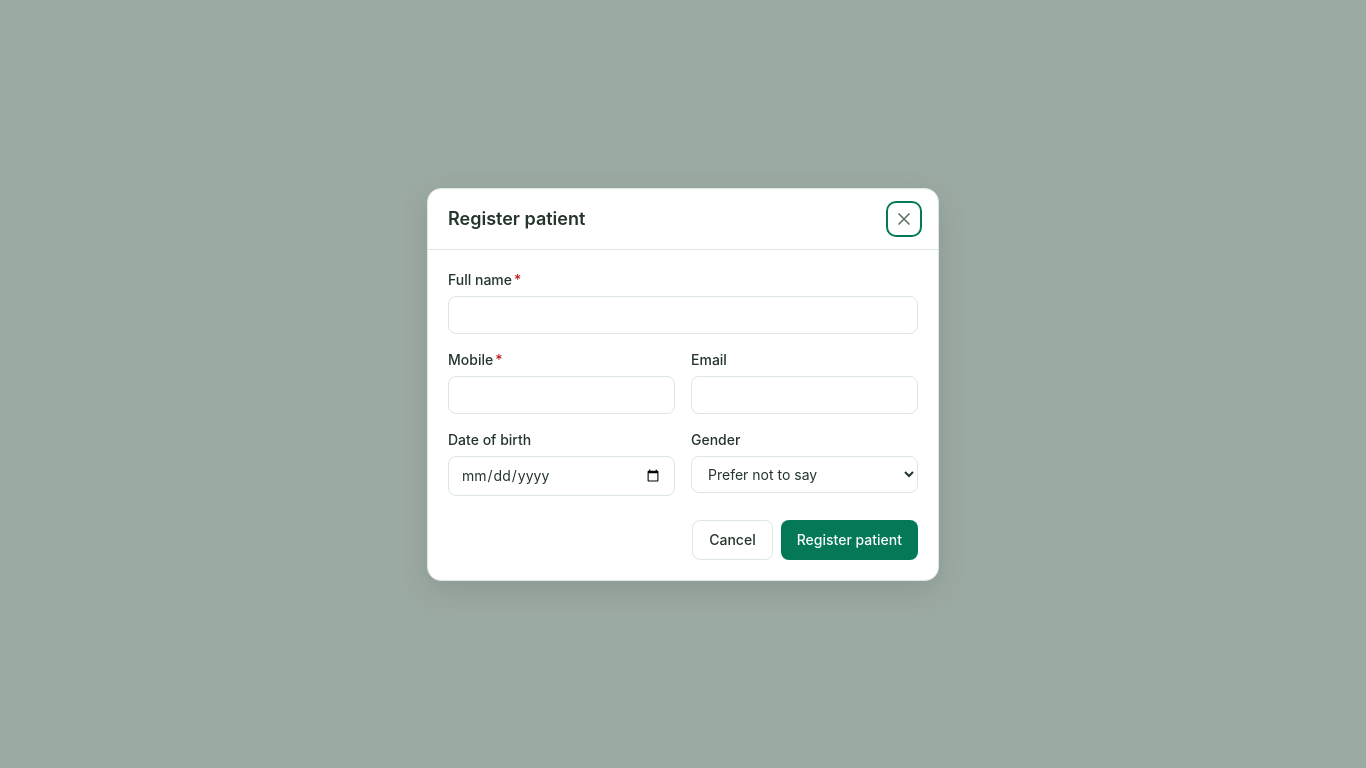
Test: PatientFormModal (new patient) › shows backend validation errors on the field and keeps the form open
Type "New Person" into the field labelled "Full name*".
click(683, 314); type("New Person")  # box [448,296,918,334]
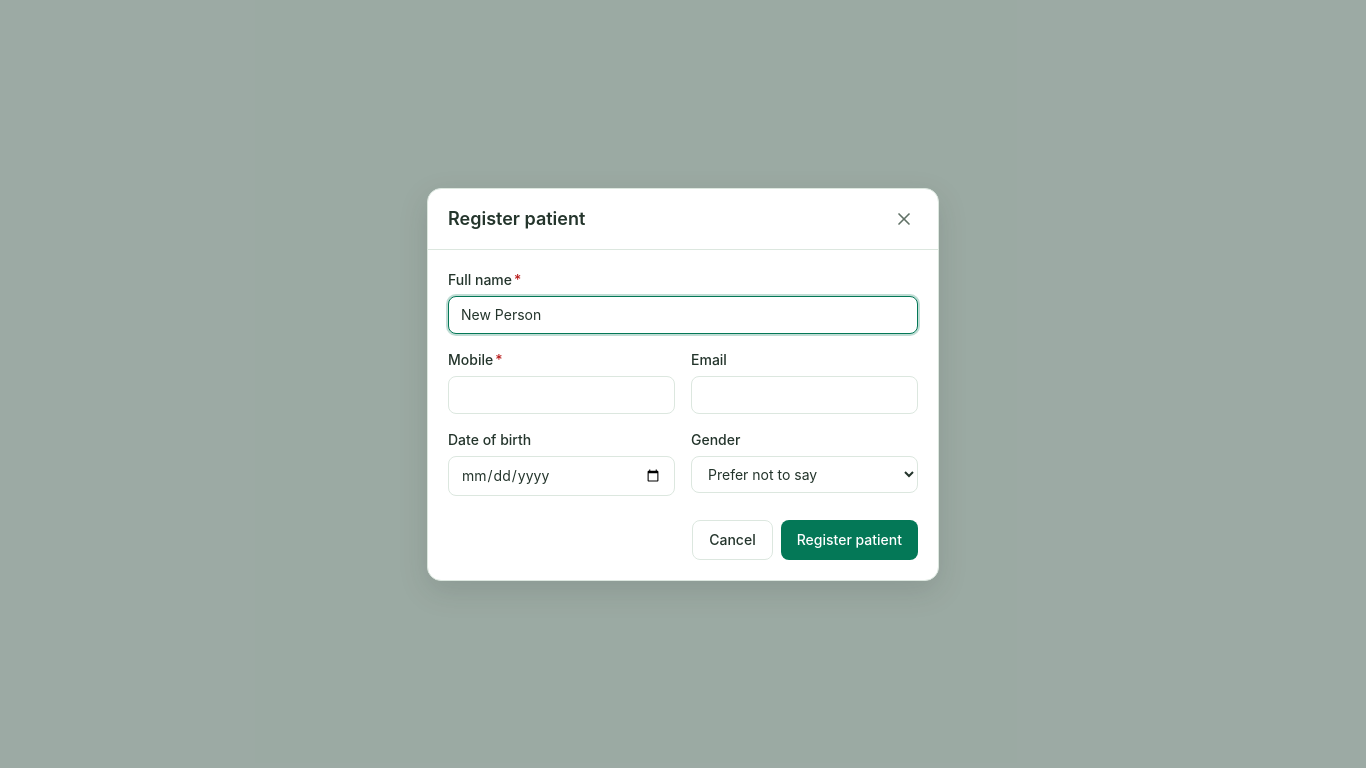
Type "9876543210" into the field labelled "Mobile*".
click(562, 394); type("9876543210")  # box [448,376,675,414]
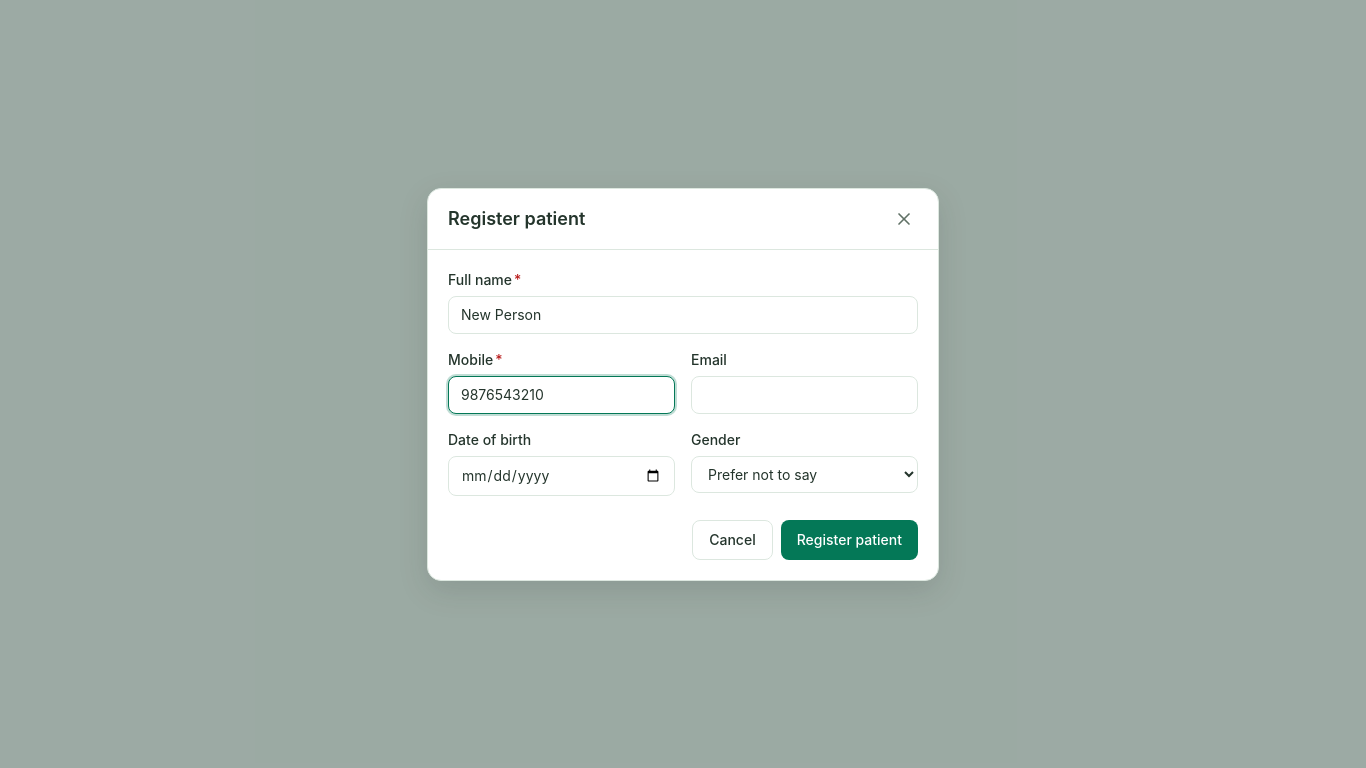
Click the button "Register patient".
click(849, 540)  # box [781,520,918,560]
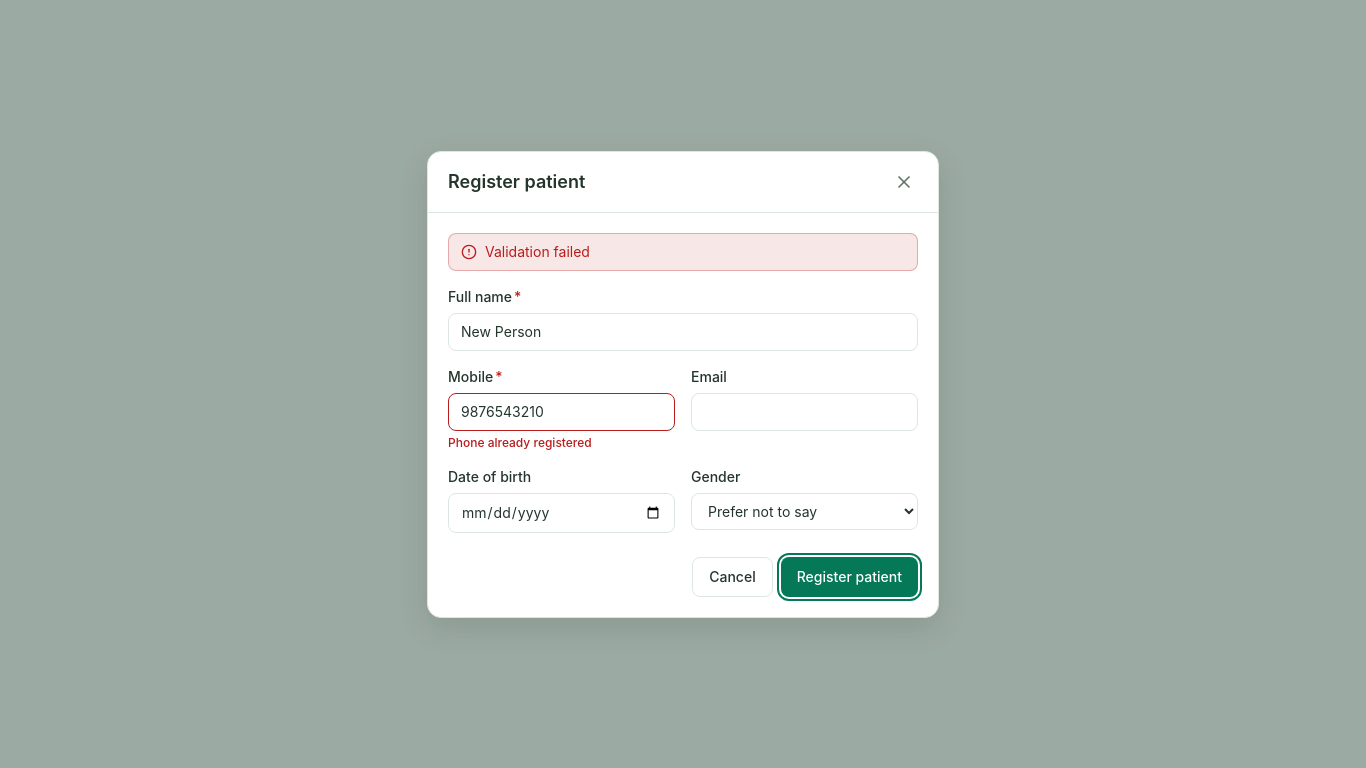
Result: the text "Phone already registered" is shown at [448,434,592,450]
Result: the text "Validation failed" is shown at [485,242,590,260]
